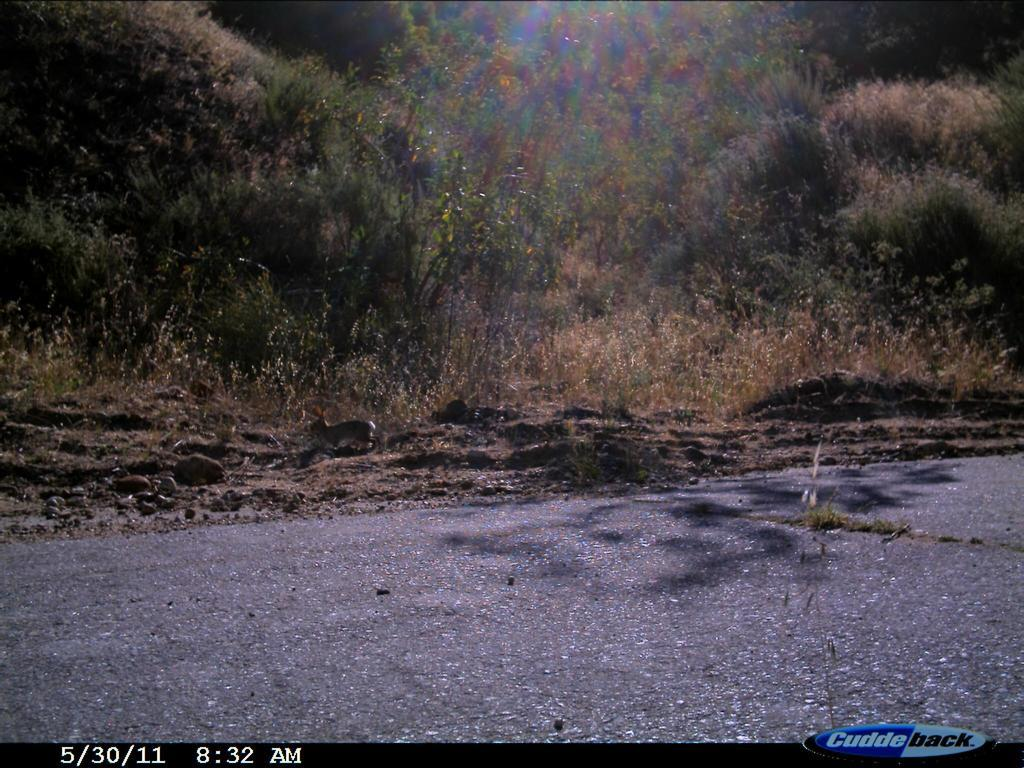rabbit: (295, 405, 391, 464)
